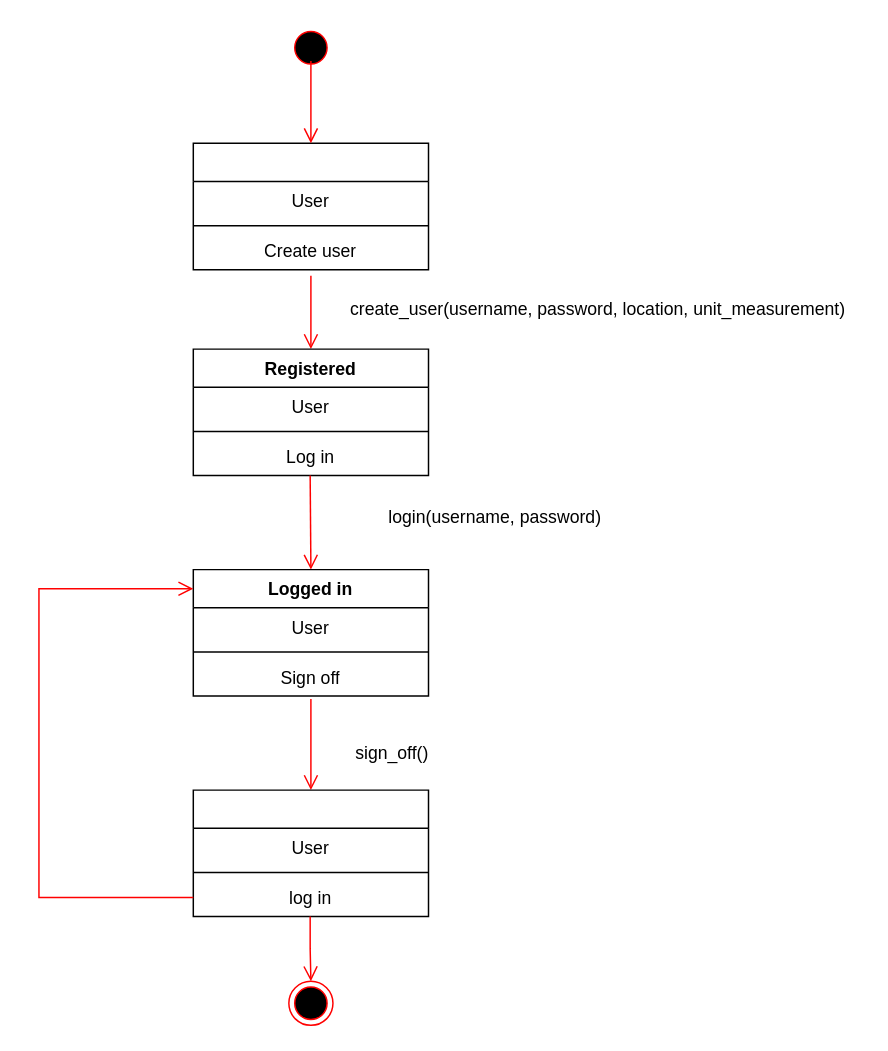
This 888x1051 diagram has some shape labels left out. Here are the shapes that lost their labels. From the top down, the box of each, then its label:
(192, 142, 429, 270): Idle
(192, 789, 429, 917): Without logging in
